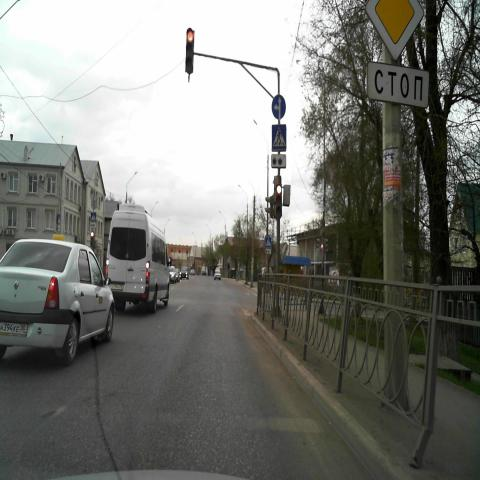4_1_5: (270, 94, 286, 119)
5_19_1: (272, 123, 286, 152), (265, 237, 271, 247), (91, 212, 96, 220)
6_16: (366, 61, 431, 110)
8_15: (271, 154, 286, 168)
